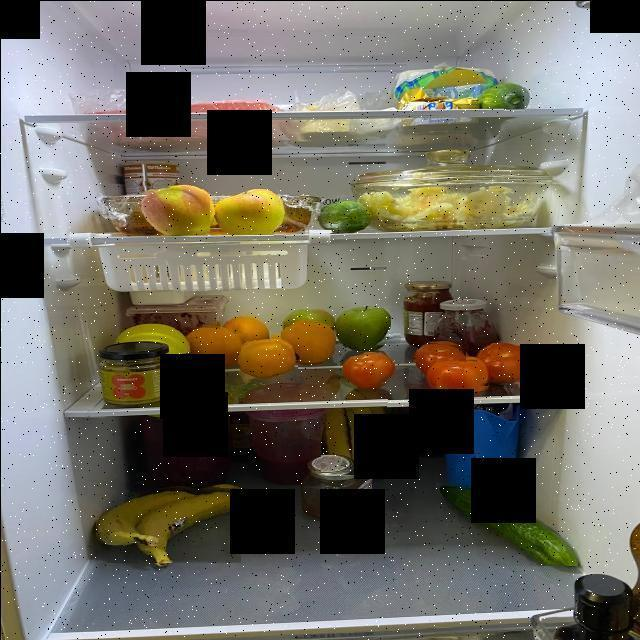apple: (134, 181, 218, 235), (210, 186, 290, 237), (328, 306, 404, 349), (285, 306, 335, 327)
banana: (94, 480, 242, 563), (321, 390, 415, 475)
cucumber: (434, 475, 590, 566), (313, 195, 363, 233), (469, 80, 524, 112)
orange: (233, 333, 299, 382), (176, 324, 242, 368), (282, 321, 342, 363), (221, 313, 271, 341)
tomato: (478, 341, 538, 386), (421, 356, 491, 391), (342, 351, 396, 387), (412, 341, 467, 368)
